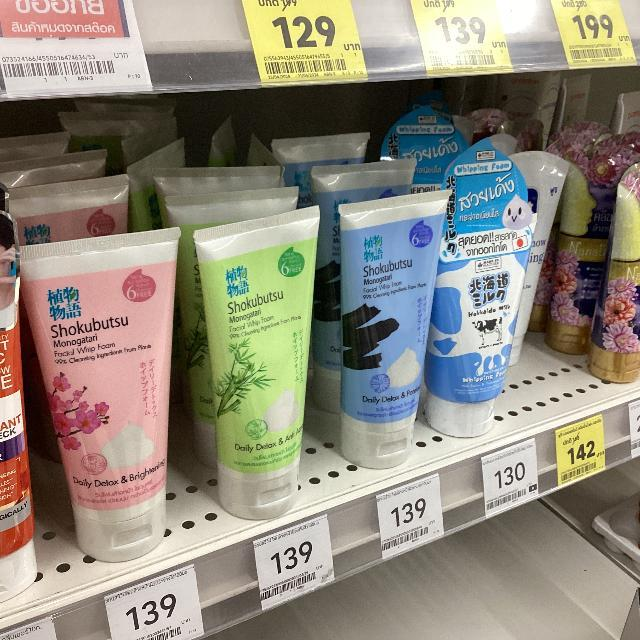Squeeze Tube: (0, 114, 628, 567)
